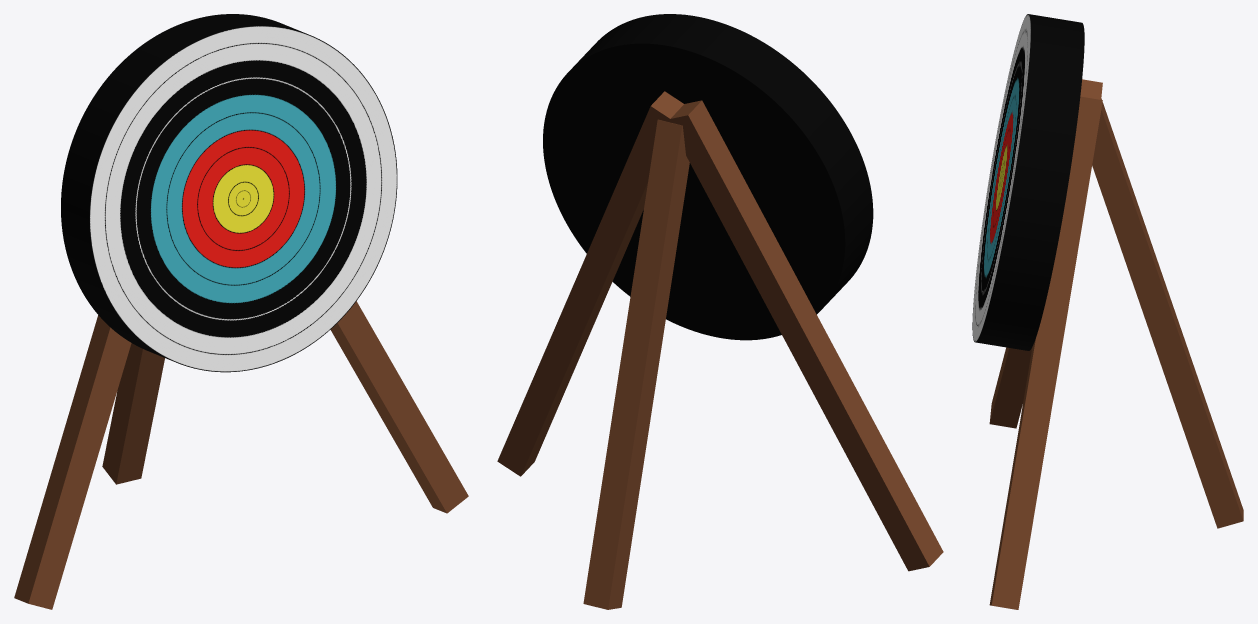
File: target.gltf
The picture shows the model from 3 angles, left to right: view 1: azimuth 30°, elevation 25°; view 2: azimuth 150°, elevation 25°; view 3: azimuth 270°, elevation 25°; orthographic projection. The views are drawn at different scales.
Parts seen in each view (by area): view 1: Target; view 2: Target; view 3: Target.
Boxes of the visible parts, x1,y1,x2,y2 form: Target: [14, 14, 468, 609]; Target: [497, 14, 943, 609]; Target: [972, 14, 1243, 609].
Bounding box in the file's own units: 1.4 × 1.6 × 0.7953.
Materials: 3 (1 with a texture image).
